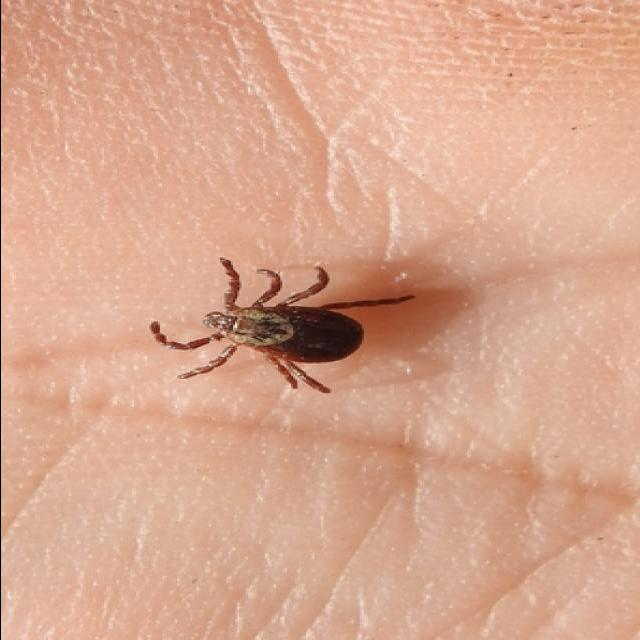Dermacentor Reticulatus-F: (148, 257, 411, 393)
